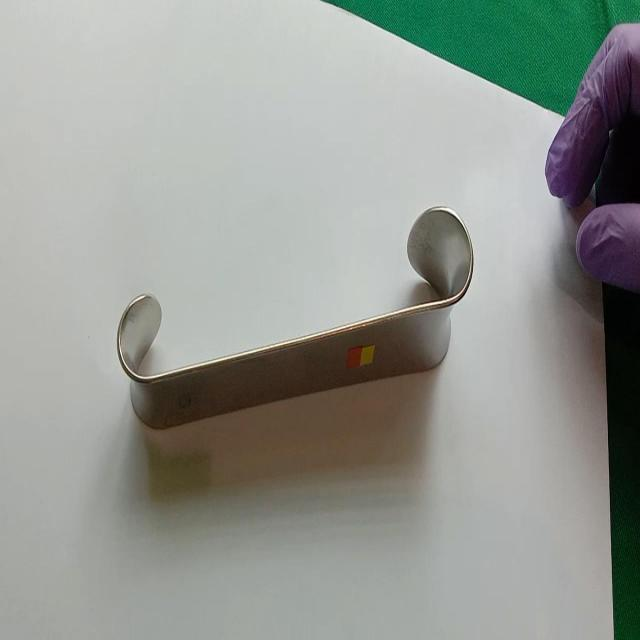CheekRetractor: (115, 203, 476, 436)
